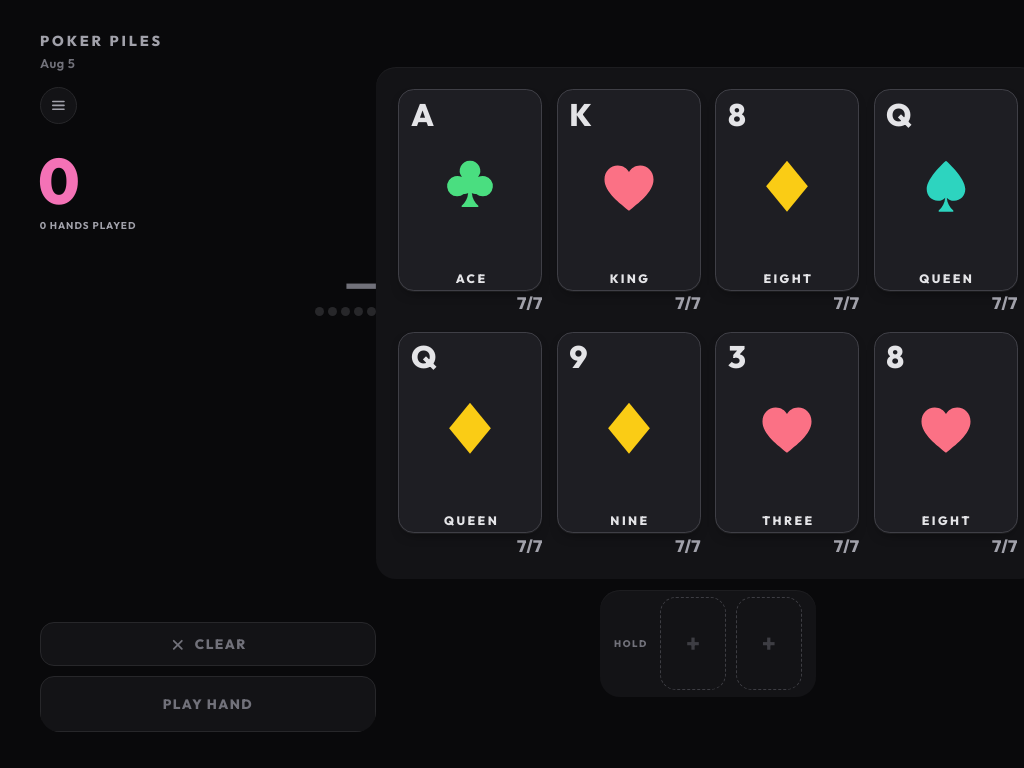
Test case: App › UTC rollover (PP-6) › Restart confirms with a rollover-specific message instead of silently swapping the deal
The image size is (1024, 768).
Click the button "A Ace" at (470,202), box x1=398 y1=89 x2=542 y2=314
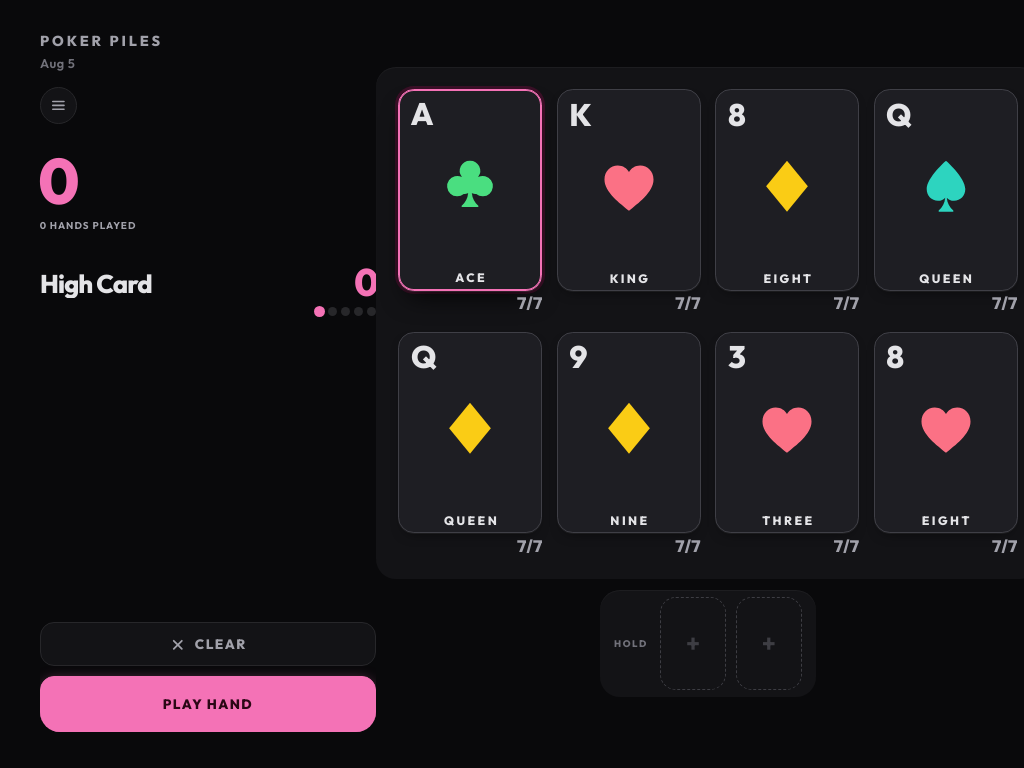
Click the button named "Menu" at (58,105), box x1=40 y1=87 x2=77 y2=124
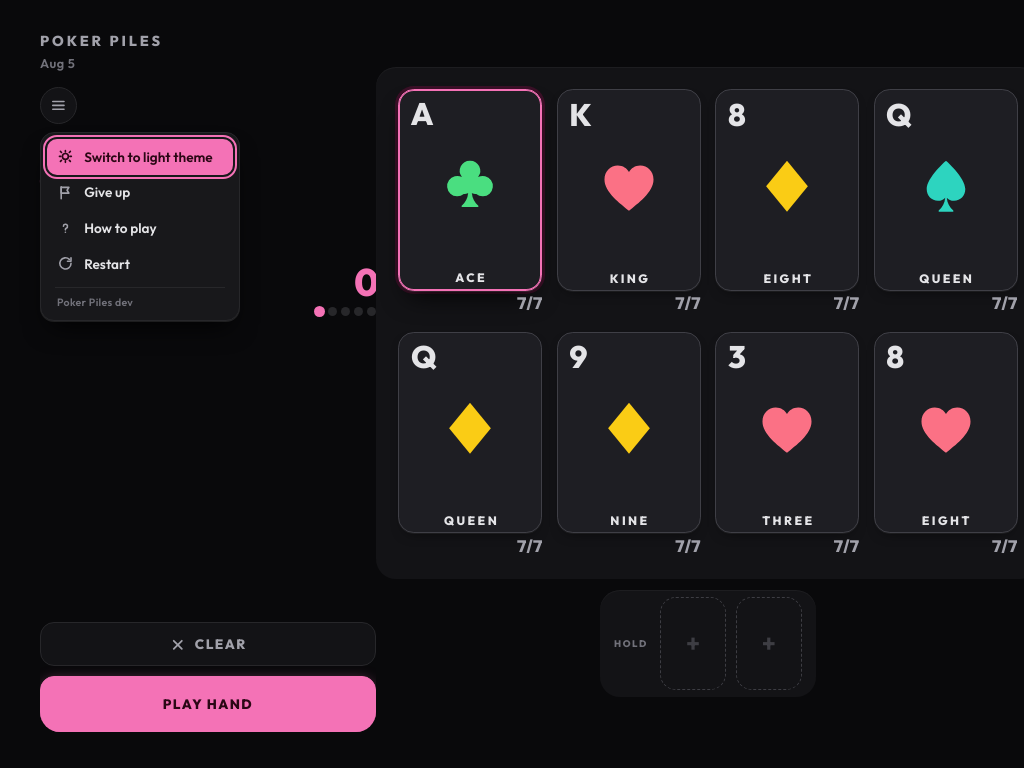
Click the button "Restart" at (140,264), box x1=47 y1=246 x2=233 y2=281
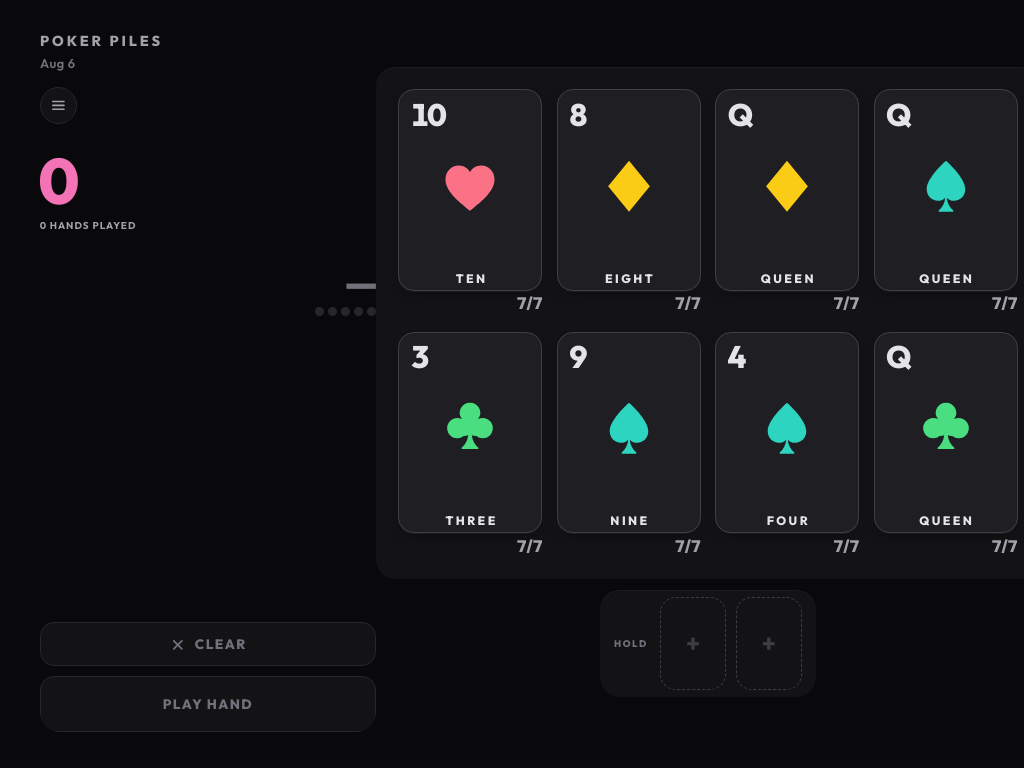
expect the text "Aug 6" is shown: met, box x1=40 y1=55 x2=75 y2=71
